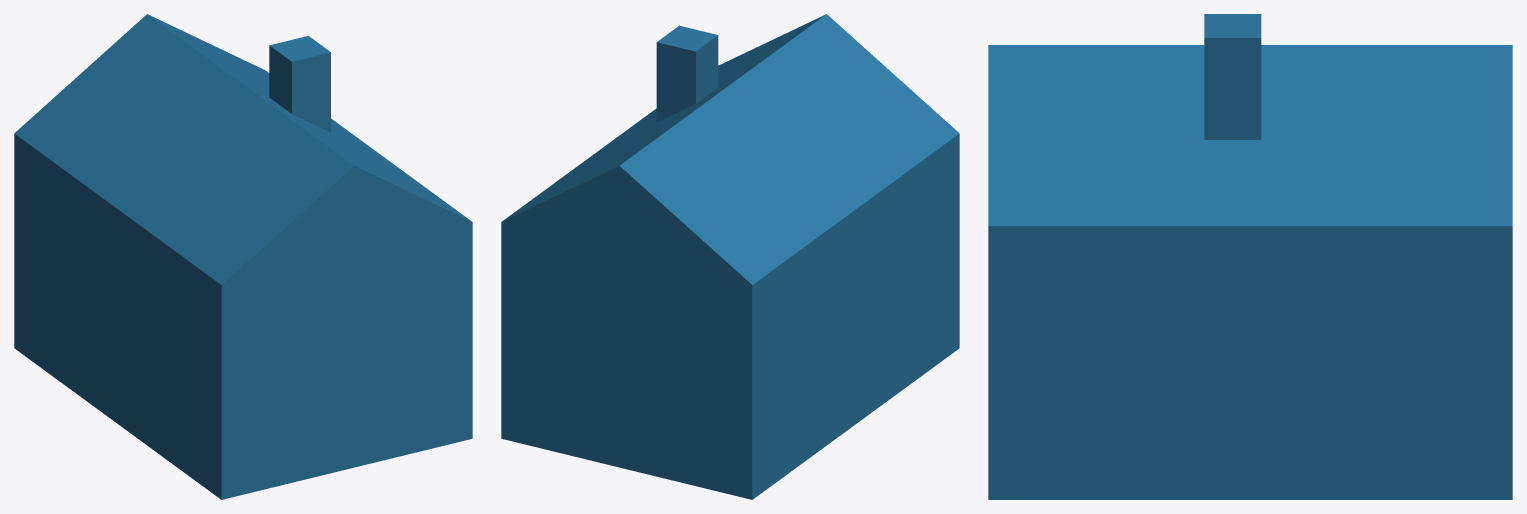
The model's file is house-1.glb.
3 renders of one model, left to right at view 1: azimuth 30°, elevation 25°; view 2: azimuth 150°, elevation 25°; view 3: azimuth 270°, elevation 25°, orthographic. The views are drawn at different scales.
Parts seen in each view (by area): view 1: House_1; view 2: House_1; view 3: House_1.
Boxes of the visible parts, bbox=[...] form: House_1: bbox=[14, 14, 472, 499]; House_1: bbox=[501, 14, 959, 499]; House_1: bbox=[988, 14, 1512, 499].
Bounding box in the file's own units: 1.43 × 1.83 × 2.04.
